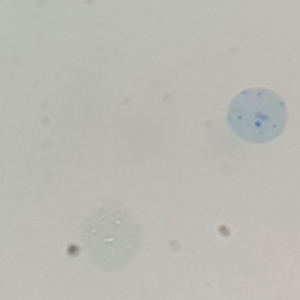aggregate reticulocyte: (225, 86, 288, 145)
